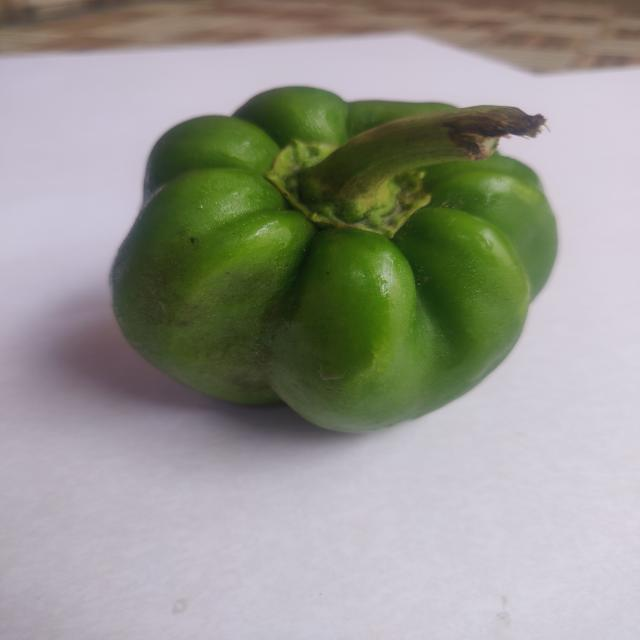Capsicum: (102, 72, 576, 446)
